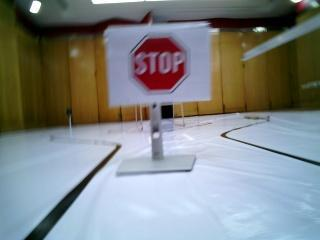stop: (111, 26, 202, 100)
